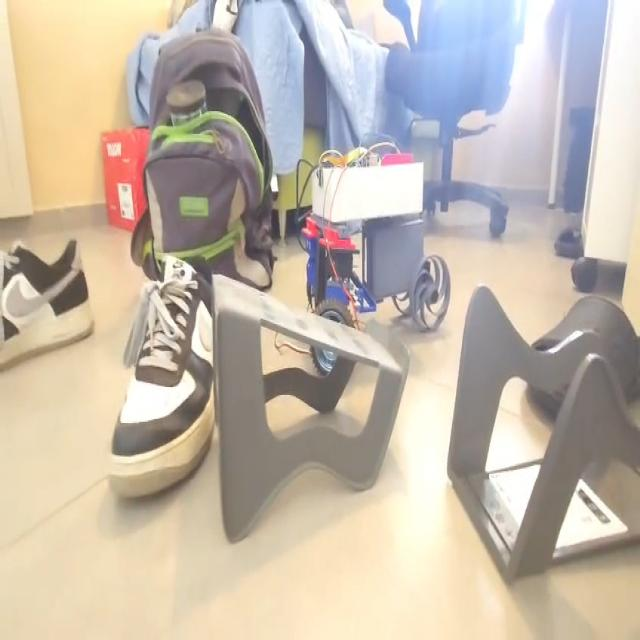Robot: (300, 150, 451, 376)
